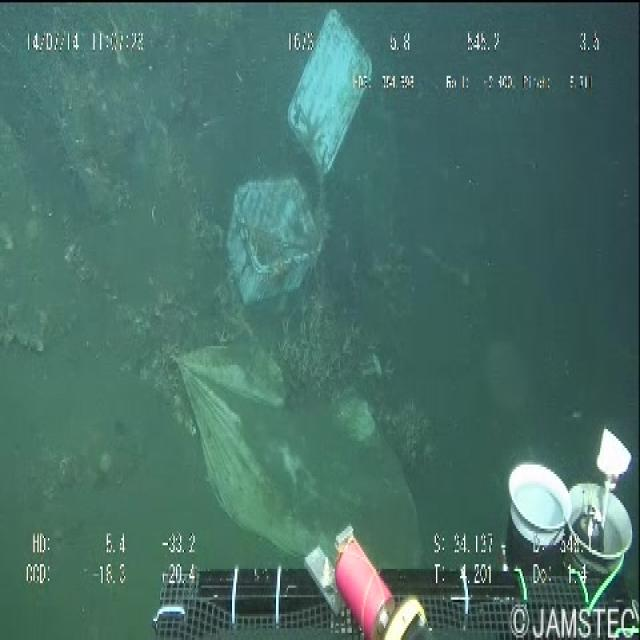plastic: (218, 0, 382, 320)
